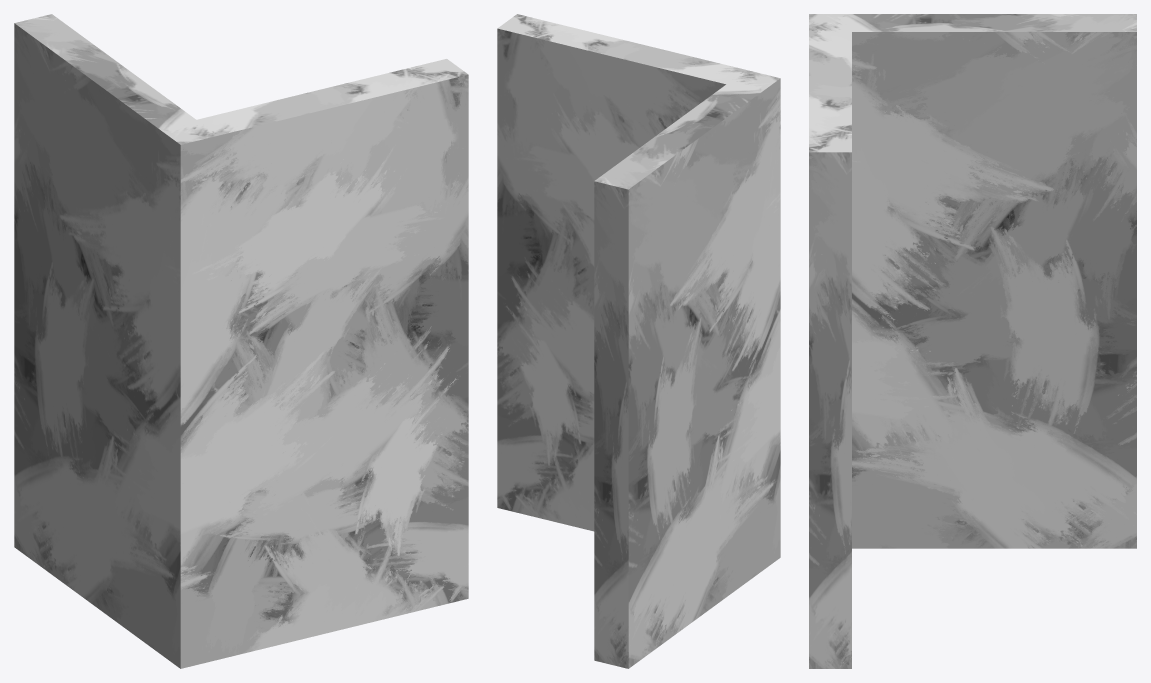
The model's file is Village_Wall_Stone_1m_Corner_A.fbx.
3 renders of one model, left to right at view 1: azimuth 30°, elevation 25°; view 2: azimuth 150°, elevation 25°; view 3: azimuth 270°, elevation 25°, orthographic. The views are drawn at different scales.
Visible parts, largest first — view 1: Village_Wall_2m_Corner_A.047; view 2: Village_Wall_2m_Corner_A.047; view 3: Village_Wall_2m_Corner_A.047.
Boxes of the visible parts, x1=… form: Village_Wall_2m_Corner_A.047: x1=14, y1=14, x2=468, y2=668; Village_Wall_2m_Corner_A.047: x1=497, y1=14, x2=780, y2=668; Village_Wall_2m_Corner_A.047: x1=809, y1=14, x2=1136, y2=668.
Bounding box in the file's own units: 115 × 200 × 115.
